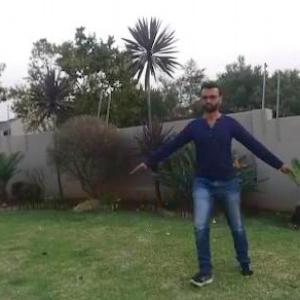land: (143, 90, 270, 246)
